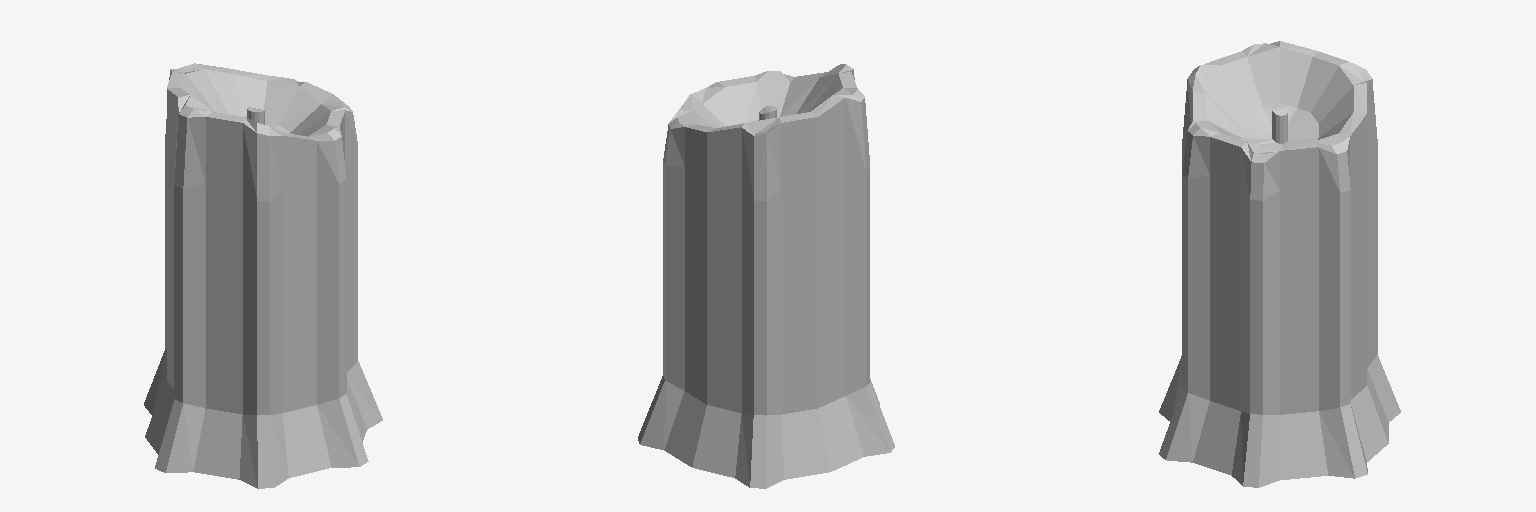
The model's file is CandleBurnt_001.obj.
The picture shows the model from 3 angles: view 1: azimuth 30°, elevation 25°; view 2: azimuth 150°, elevation 25°; view 3: azimuth 270°, elevation 25°; orthographic projection.
Parts seen in each view (by area): view 1: CandleBurnt_001 Candles; view 2: CandleBurnt_001 Candles; view 3: CandleBurnt_001 Candles.
Boxes of the visible parts, box(x1,y1,x2,y2) form: CandleBurnt_001 Candles: box(144, 63, 382, 488); CandleBurnt_001 Candles: box(638, 64, 894, 488); CandleBurnt_001 Candles: box(1159, 41, 1400, 487).
Size of the model in its own units: 10.75 by 16.27 by 10.09.